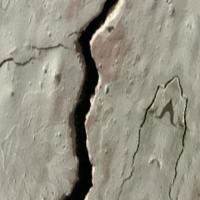crack: (50, 0, 153, 199)
